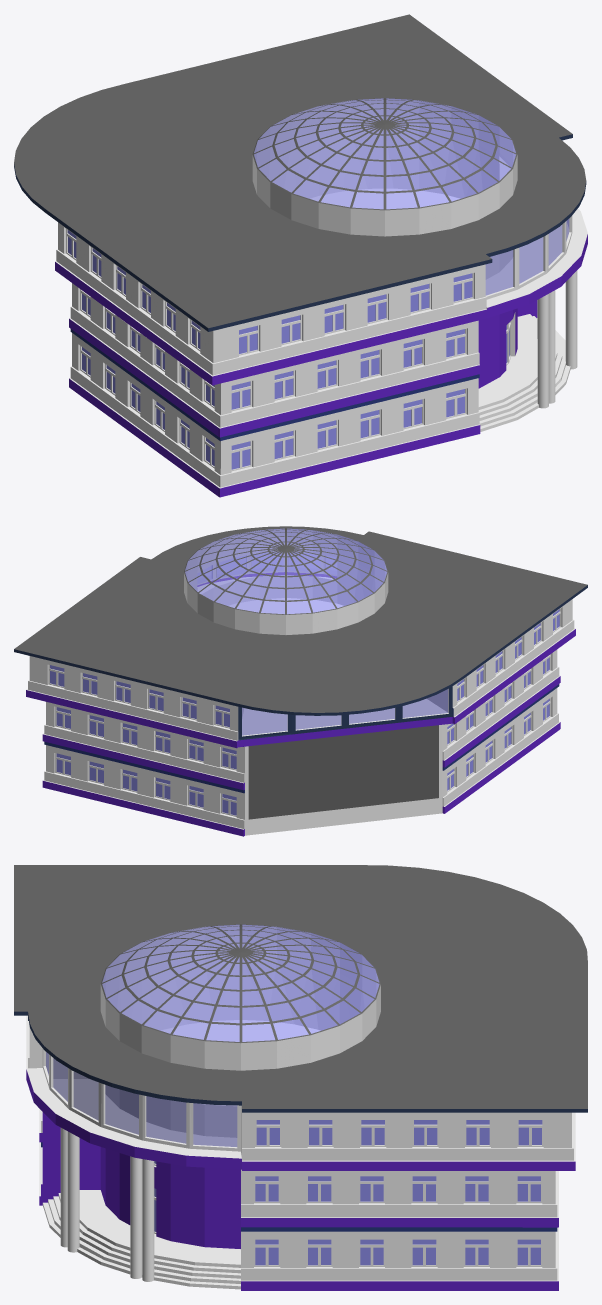
File: mdl-museum.glb
The picture shows the model from 3 angles, top to bottom: view 1: azimuth 30°, elevation 25°; view 2: azimuth 150°, elevation 25°; view 3: azimuth 270°, elevation 25°; orthographic projection. The views are drawn at different scales.
Parts seen in each view (by area): view 1: CornerHouse, Columns; view 2: CornerHouse; view 3: CornerHouse, Columns.
Part boxes in pixels (<box>): CornerHouse: <box>14,14,587,497</box>; Columns: <box>537,270,577,408</box>; CornerHouse: <box>14,526,587,836</box>; CornerHouse: <box>14,865,587,1290</box>; Columns: <box>60,1128,154,1281</box>.
Bounding box in the file's own units: 33 × 16 × 32.83.
